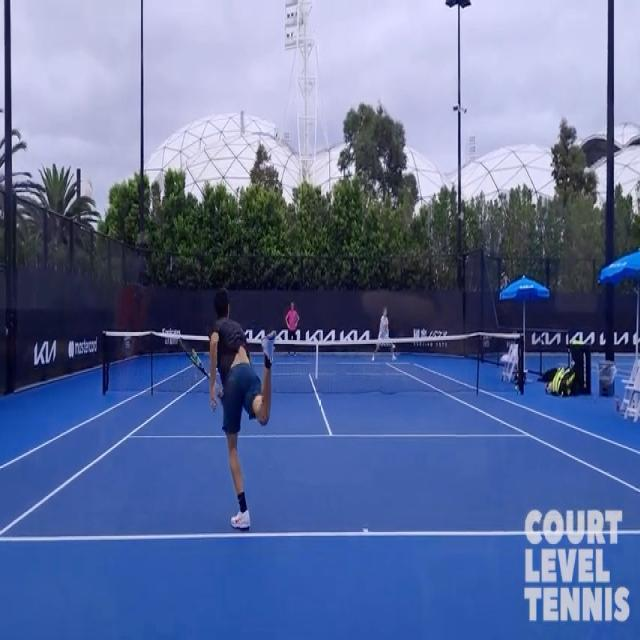serve_followthrough: (180, 278, 281, 534)
